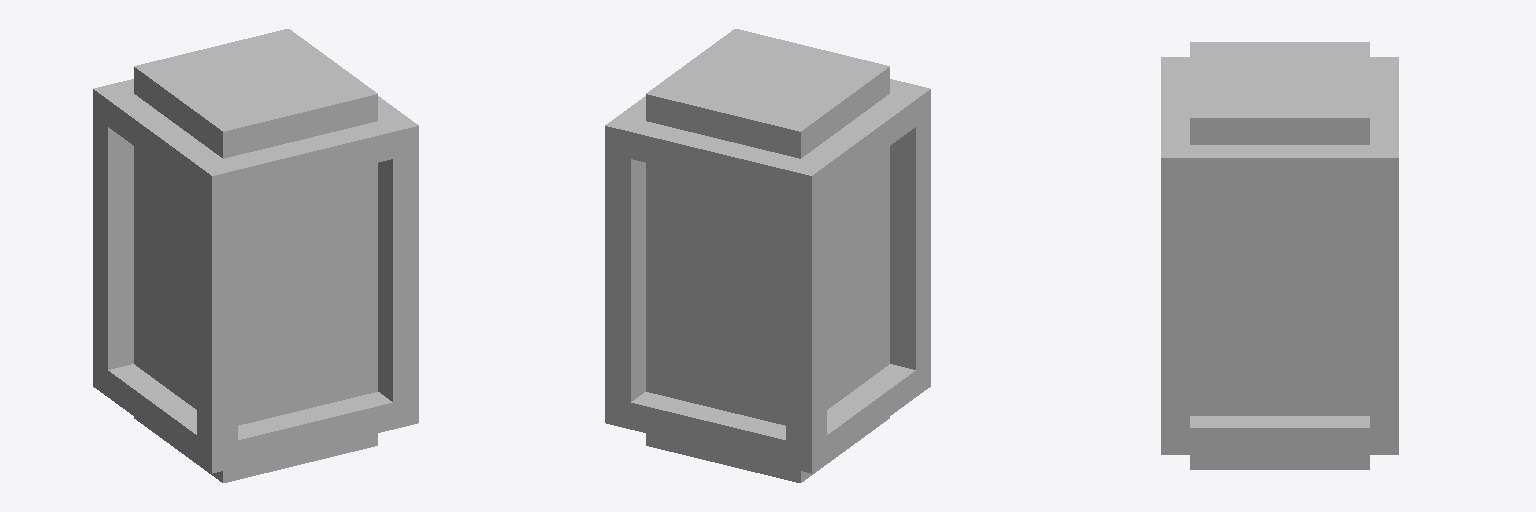
File: lantern_inventory.obj
The picture shows the model from 3 angles: view 1: azimuth 30°, elevation 25°; view 2: azimuth 150°, elevation 25°; view 3: azimuth 270°, elevation 25°; orthographic projection.
Parts seen in each view (by area): view 1: base; view 2: base; view 3: base.
Boxes of the visible parts, x1=… form: base: x1=93, y1=29, x2=418, y2=482; base: x1=605, y1=29, x2=930, y2=482; base: x1=1161, y1=42, x2=1398, y2=469.
Size of the model in its own units: 0.5 by 0.8125 by 0.5.